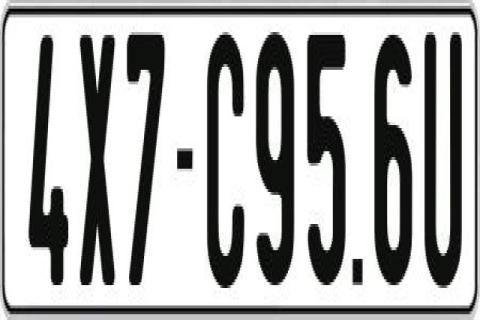0: (374, 26, 418, 282), (26, 26, 68, 291), (306, 26, 346, 291), (256, 29, 296, 291), (124, 26, 162, 276)
C: (207, 29, 245, 282)
U: (424, 26, 462, 300)
X: (78, 26, 116, 294)
